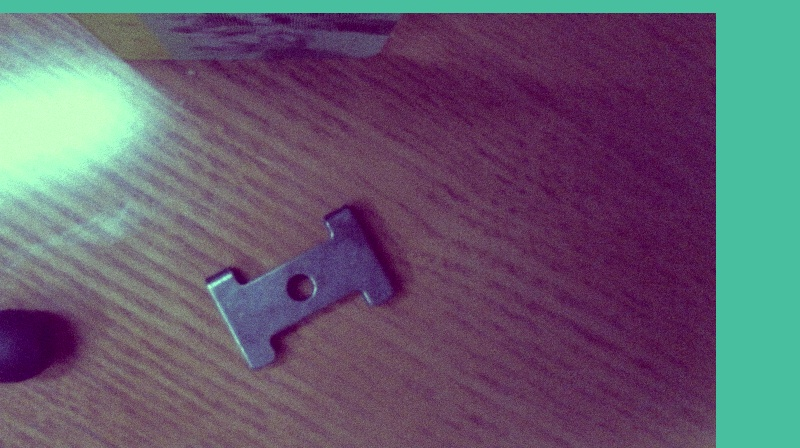O002: (203, 203, 395, 368)
